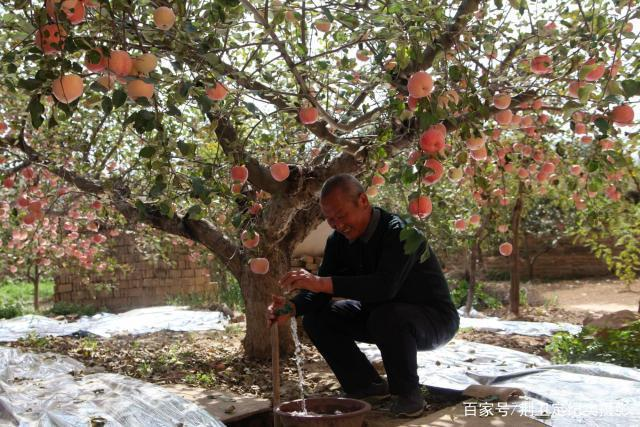apple: (52, 73, 83, 102), (34, 24, 65, 52), (408, 71, 434, 98), (107, 50, 133, 75), (128, 76, 154, 101), (421, 158, 444, 183), (421, 129, 444, 154), (409, 197, 430, 218), (155, 6, 174, 29), (613, 104, 633, 125), (270, 162, 290, 181), (300, 105, 318, 123), (231, 165, 248, 182), (242, 231, 260, 247), (251, 259, 269, 275)
